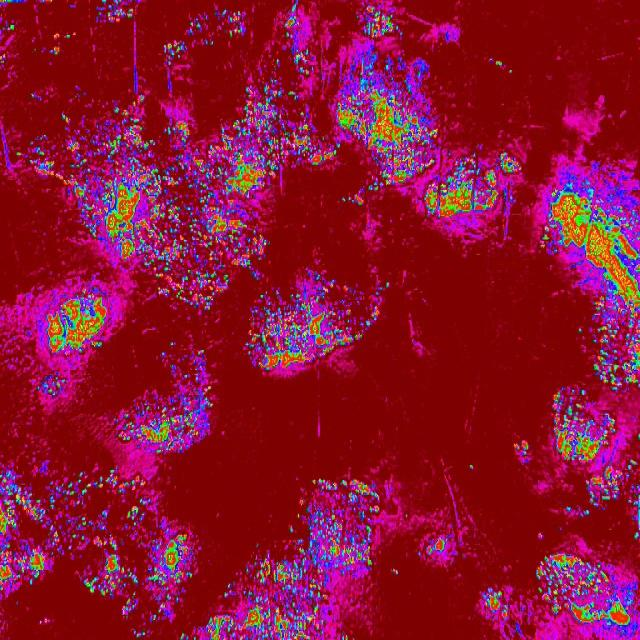fire: (80, 96, 292, 312), (0, 470, 195, 594), (290, 480, 384, 640), (332, 50, 438, 184), (249, 275, 384, 380), (547, 389, 640, 517), (549, 172, 640, 298), (534, 552, 640, 640), (117, 371, 216, 455), (424, 162, 521, 238), (208, 556, 292, 640), (40, 284, 114, 368), (586, 299, 640, 390)
